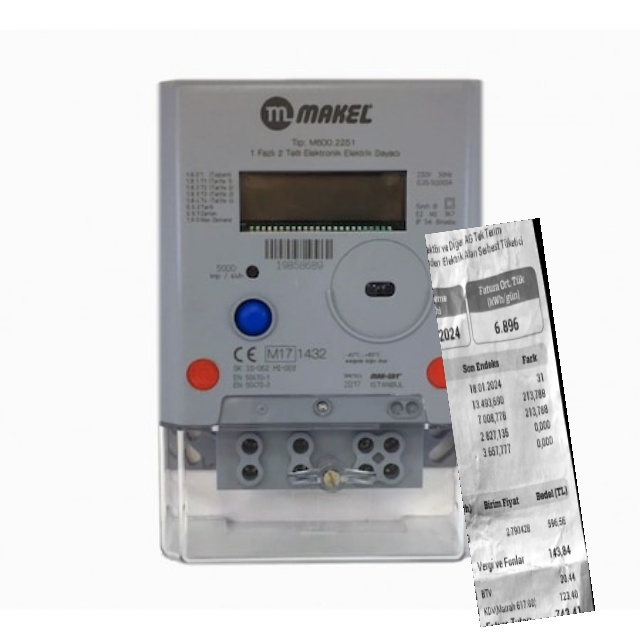electricity-bill: (425, 218, 595, 626)
